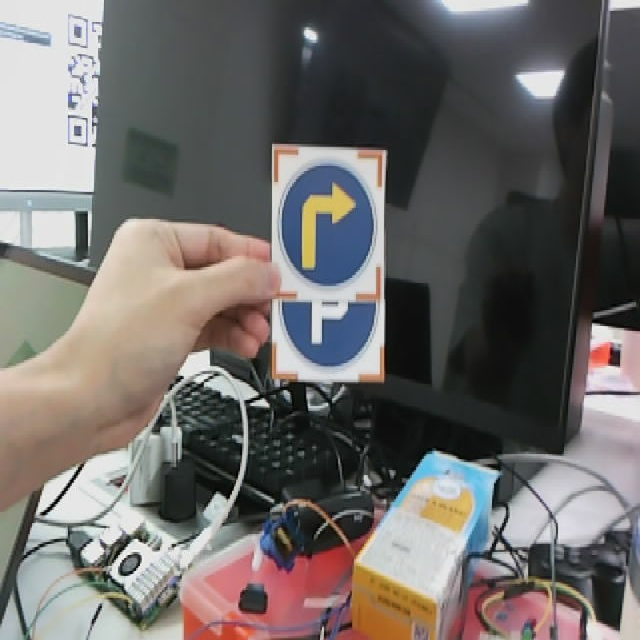parking: (271, 303, 386, 382)
right: (265, 144, 383, 301)
